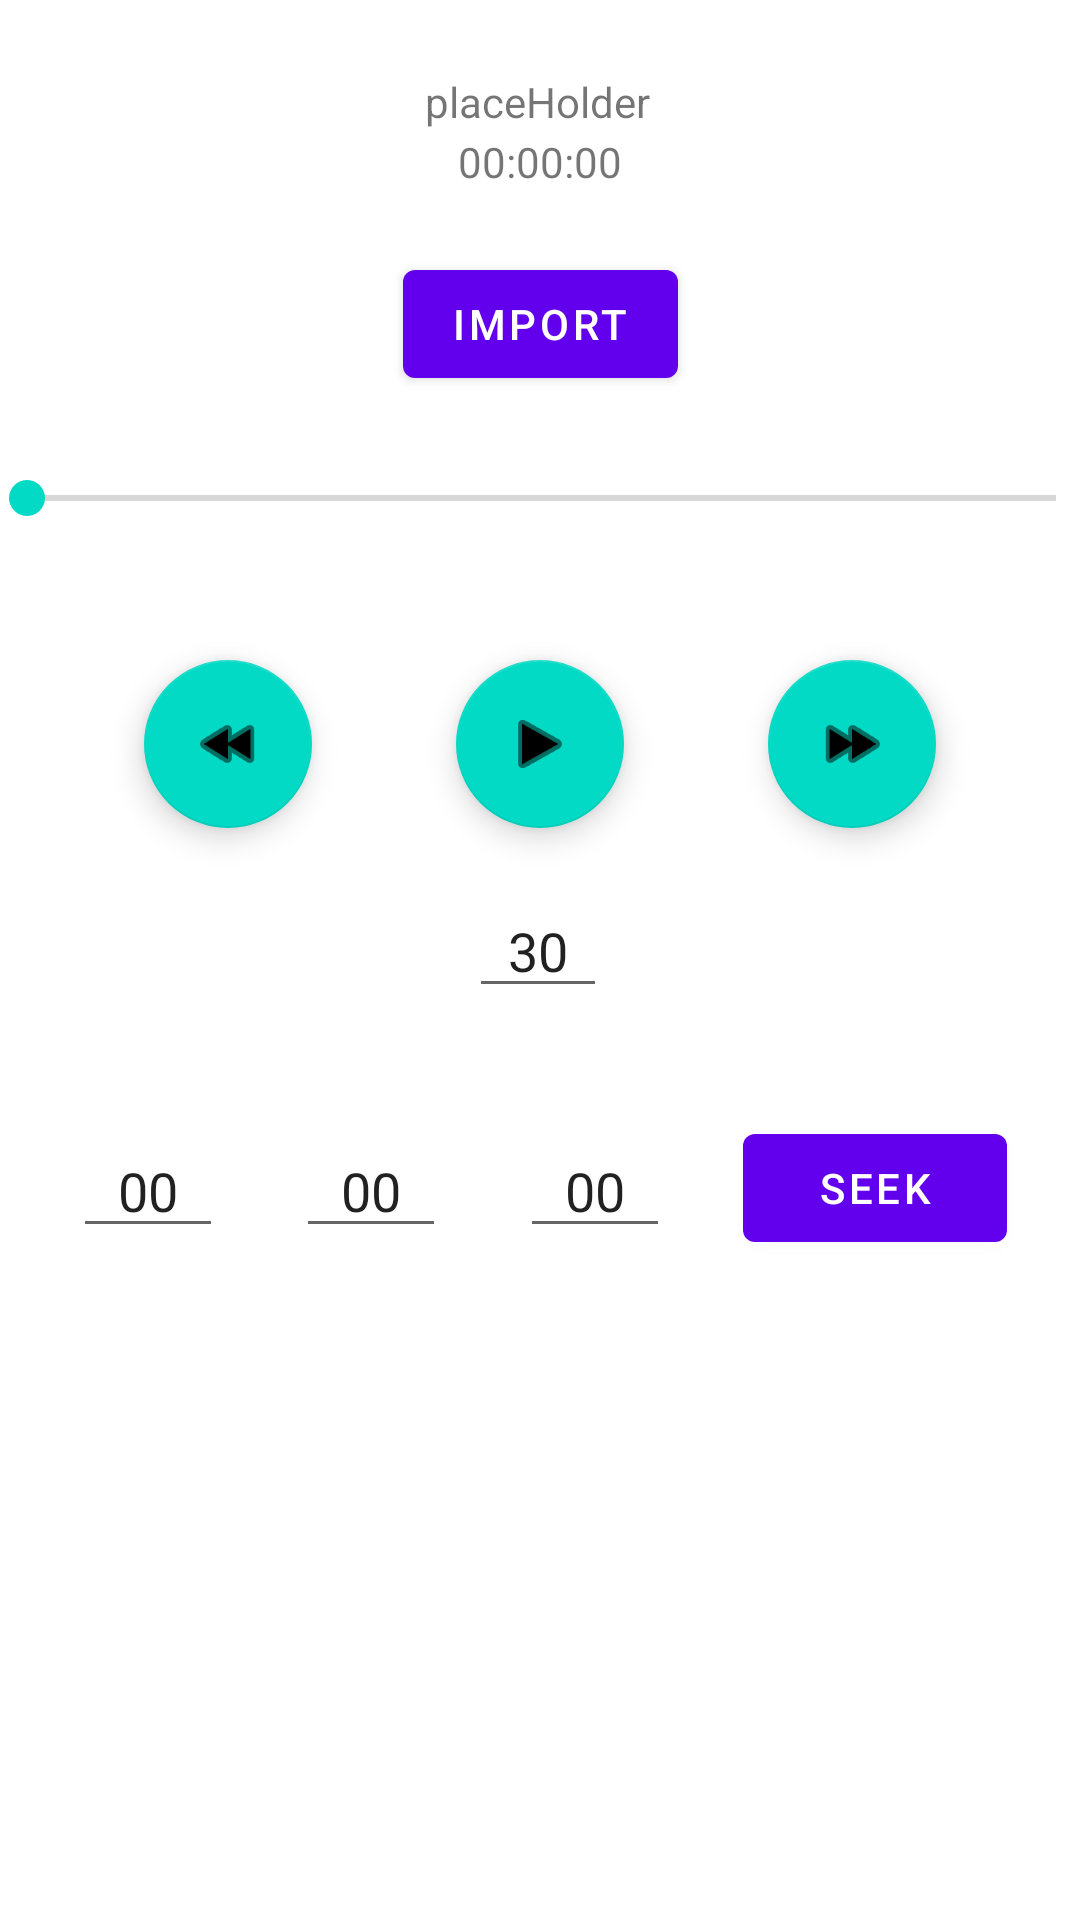

Locate icon controls on the screen. Image size 1080px×1920px, boxes as (x1, y1, x2, y2).
play: (456, 660, 624, 828)
rew: (144, 660, 312, 828)
